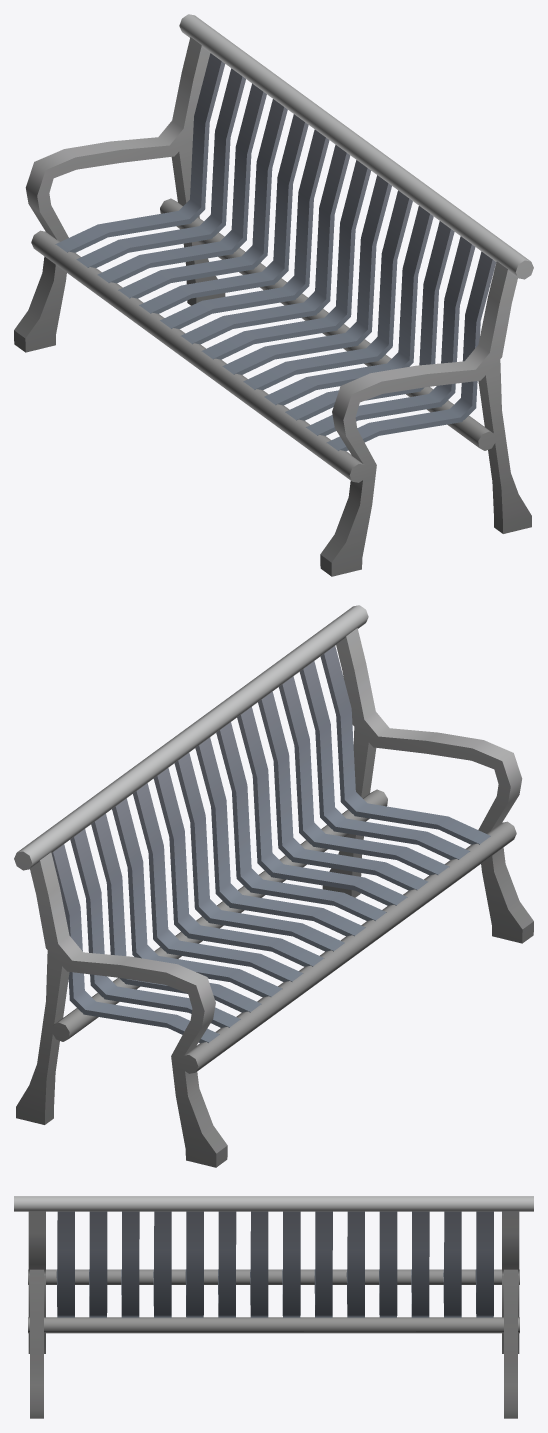
The model's file is Bench_1_A.glb.
3 views of the same model, one above another, from view 1: azimuth 30°, elevation 25°; view 2: azimuth 150°, elevation 25°; view 3: azimuth 270°, elevation 25° (orthographic). The views are drawn at different scales.
Visible parts, largest first — view 1: Bench_1_A; view 2: Bench_1_A; view 3: Bench_1_A.
Part boxes in pixels (x1,y1,x2,y2): Bench_1_A: (14,14,533,576); Bench_1_A: (14,605,533,1167); Bench_1_A: (14,1196,533,1418).
Size of the model in its own units: 0.6757 by 0.8925 by 1.95.
1 material, 1 textured.
